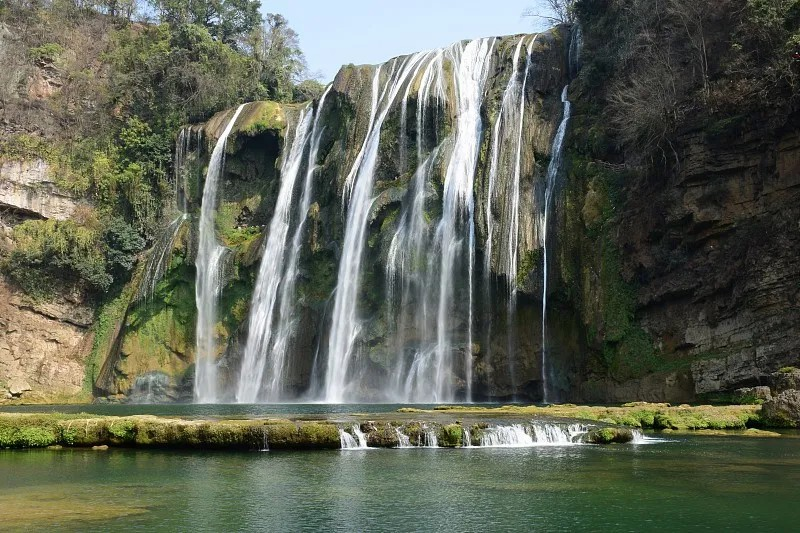Huangguoshu: (195, 27, 570, 404)
